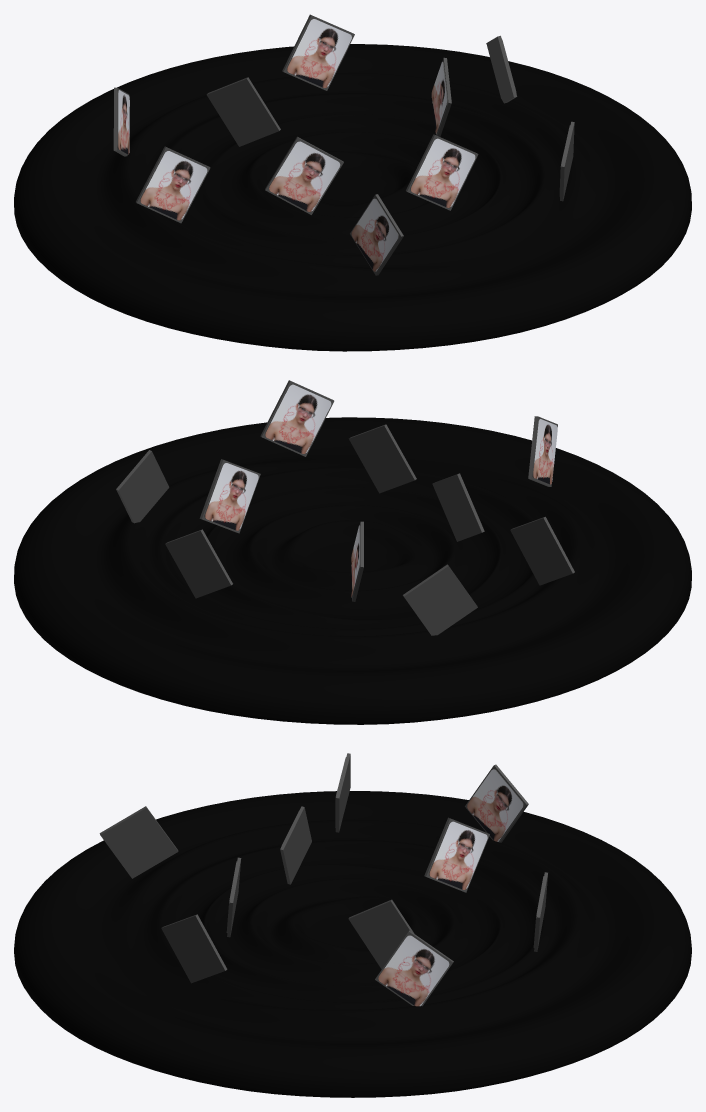
The picture shows the model from 3 angles, top to bottom: view 1: azimuth 30°, elevation 25°; view 2: azimuth 150°, elevation 25°; view 3: azimuth 270°, elevation 25°; orthographic projection.
Visible parts, largest first — view 1: 圆环, 立方体.005; view 2: 圆环, 立方体.005; view 3: 圆环, 立方体.005.
Boxes of the visible parts, x1,y1,x2,y2 form: 圆环: [14, 44, 691, 351]; 立方体.005: [113, 14, 574, 275]; 圆环: [14, 417, 691, 724]; 立方体.005: [116, 380, 574, 635]; 圆环: [14, 791, 691, 1097]; 立方体.005: [99, 753, 547, 1006].
Bounding box in the file's own units: 13.34 × 2.55 × 13.35.
Materials: 3 (1 with a texture image).
